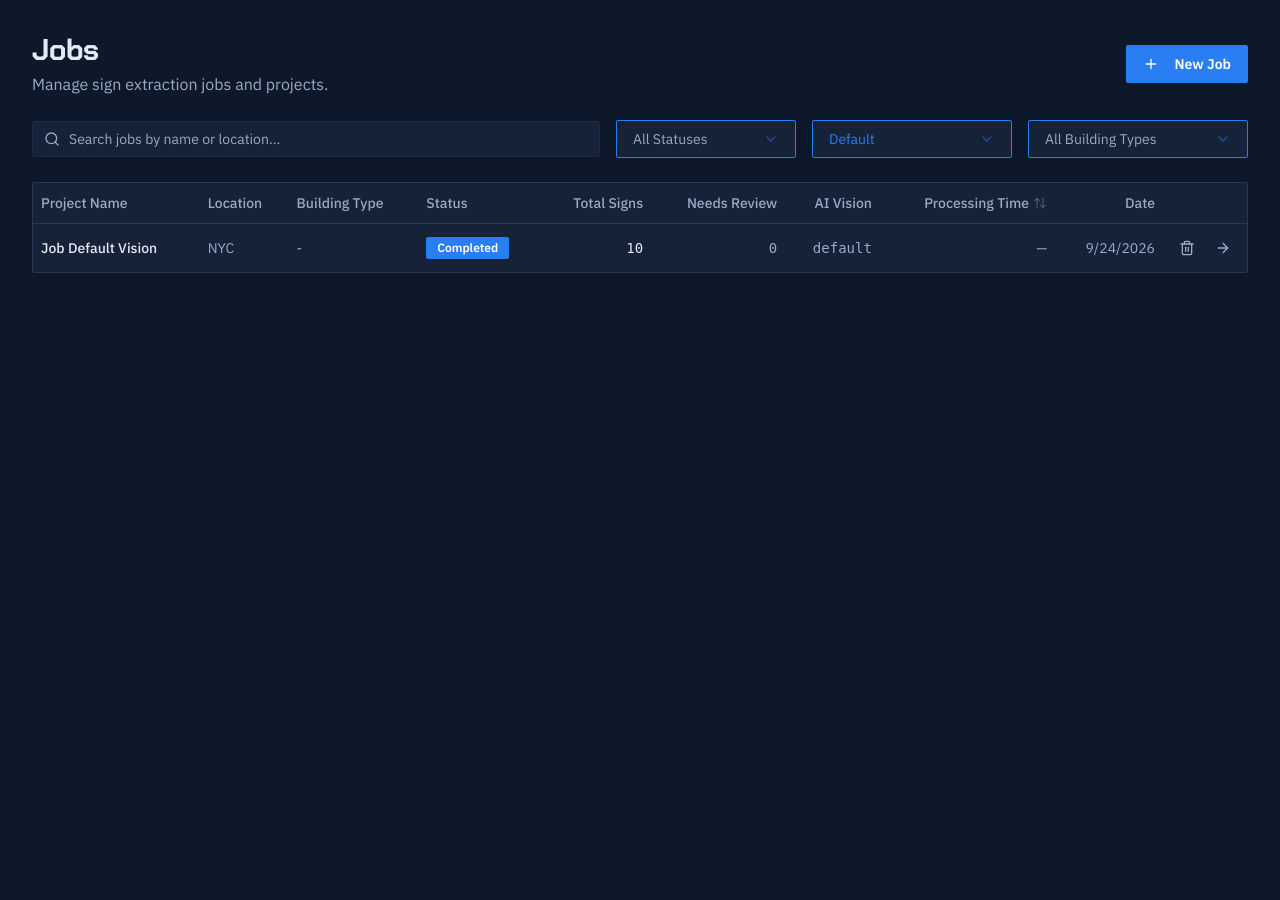
it: AI Vision filter — Jobs page component › popover content › shows the clear filter button when a filter is active
Click the dropdown with test id "btn-vision-filter": {"x": 912, "y": 139} [812,120,1012,158]
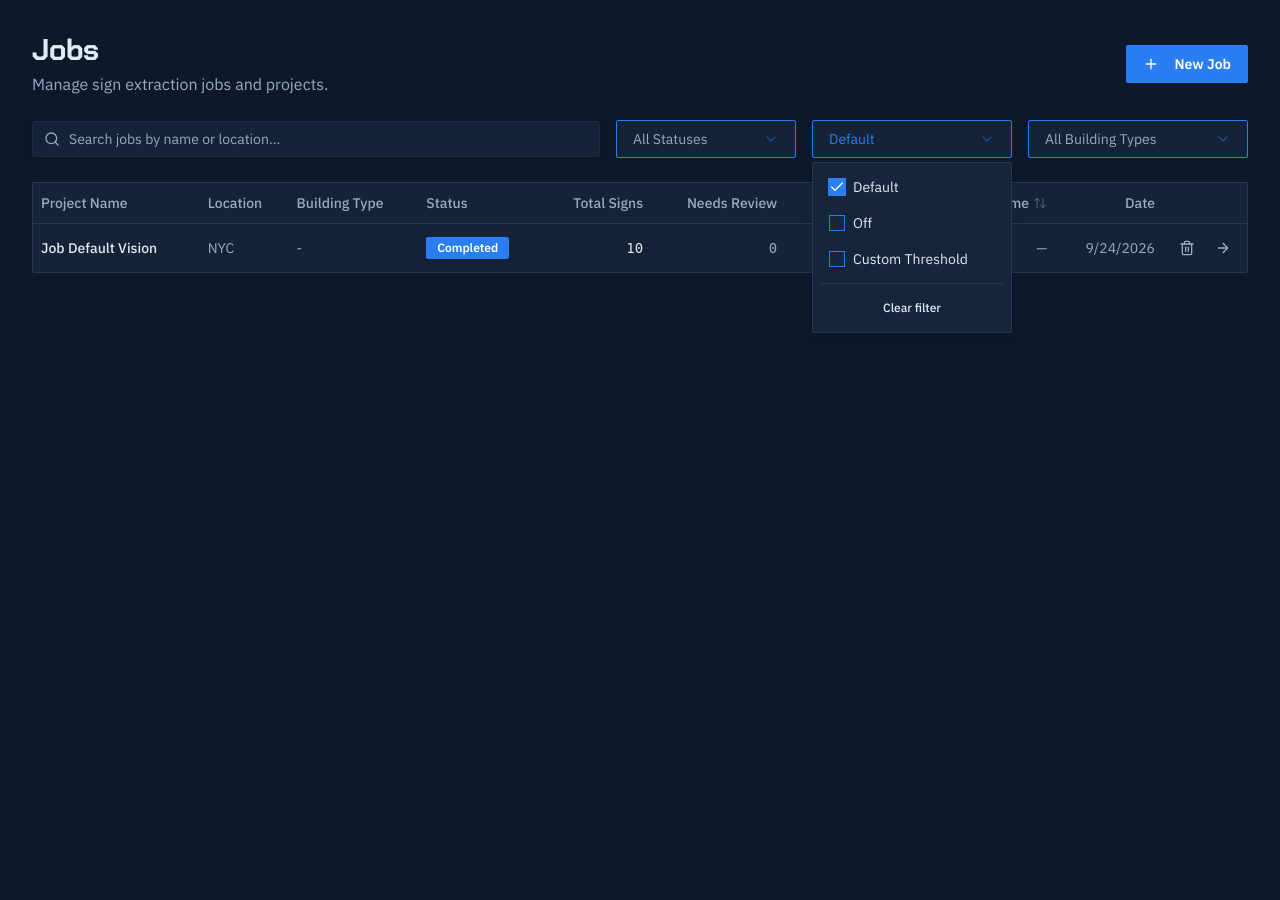
Expected: the button with test id "btn-clear-vision-filters" is shown, [821,292,1003,324]
